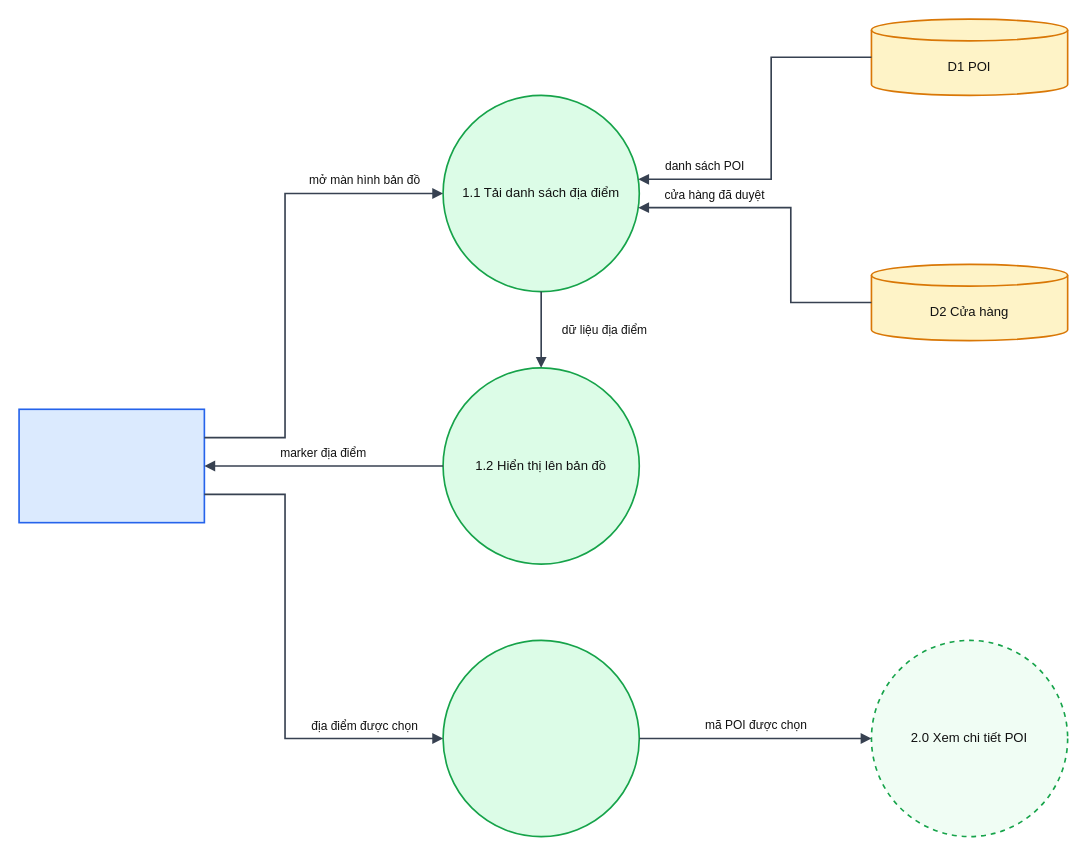
Image size: 1088x857. Some labels were removed from this diagram. The centre of each missing label's shape, as x and y in pixels:
1.3 Chọn địa điểm: [541,738]
Khách tham quan: [111,465]
